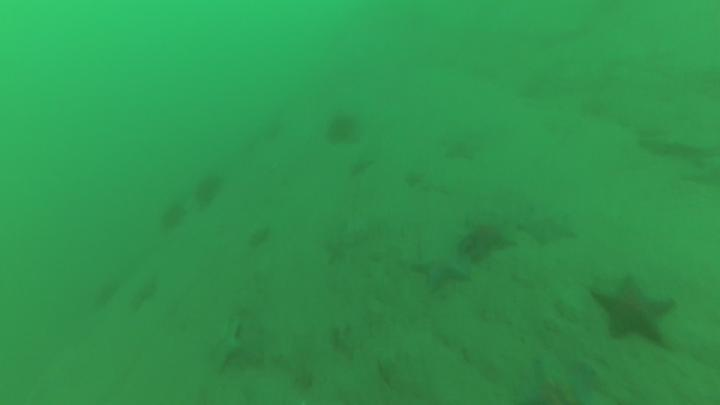echinus: (330, 106, 366, 150)
starfish: (587, 268, 679, 350), (414, 248, 475, 295), (455, 220, 517, 265), (204, 318, 249, 373), (522, 211, 580, 249), (325, 232, 357, 265)
